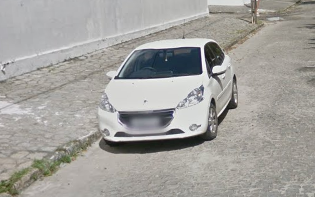car: (96, 18, 245, 150)
